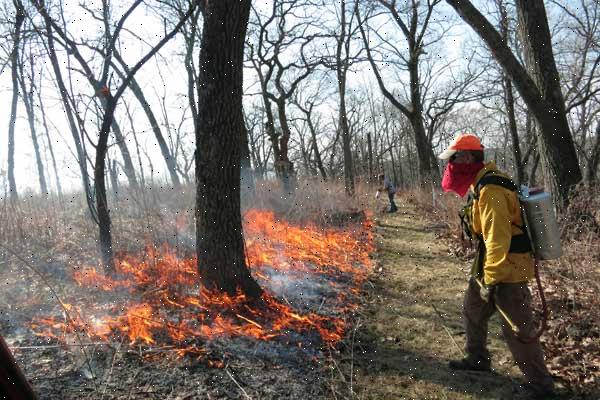fire: (66, 254, 345, 390), (244, 194, 383, 281)
